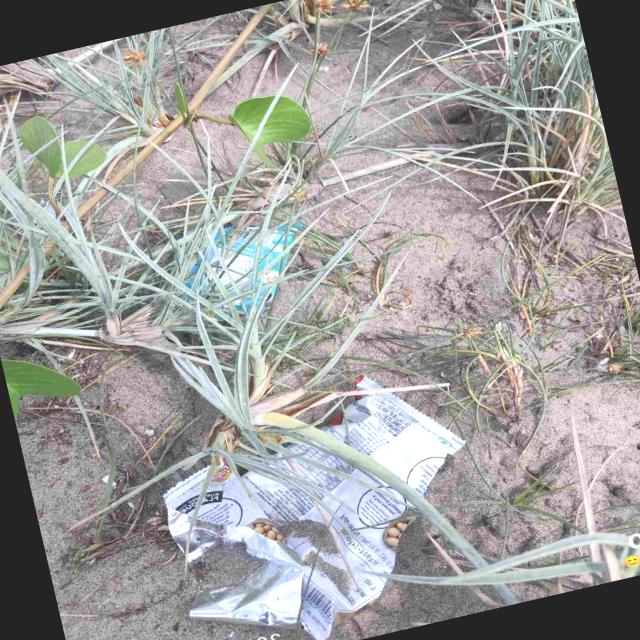bao_bi_thuc_pham: (185, 222, 301, 314)
giay: (164, 444, 415, 640), (323, 394, 464, 495)
rac_huu_co: (0, 0, 331, 343), (449, 0, 619, 217), (41, 27, 168, 141), (231, 89, 310, 150), (1, 361, 77, 415)
